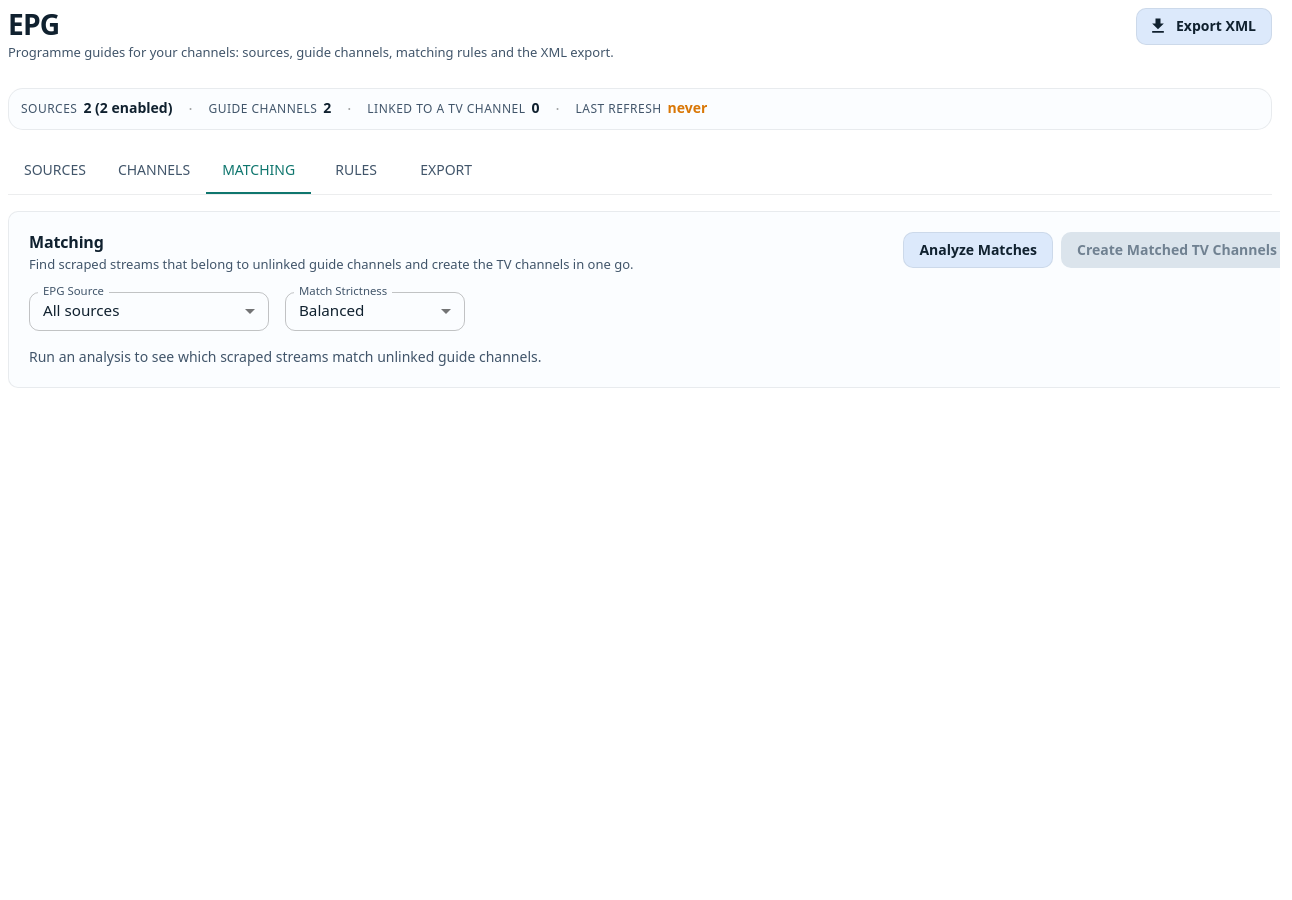
Test: EPG bulk match workflow › allows row deselection and creates only selected creatable rows
The width and height of the screenshot is (1292, 900).
Click the button "Analyze Matches": (978, 250) [903,232,1053,268]
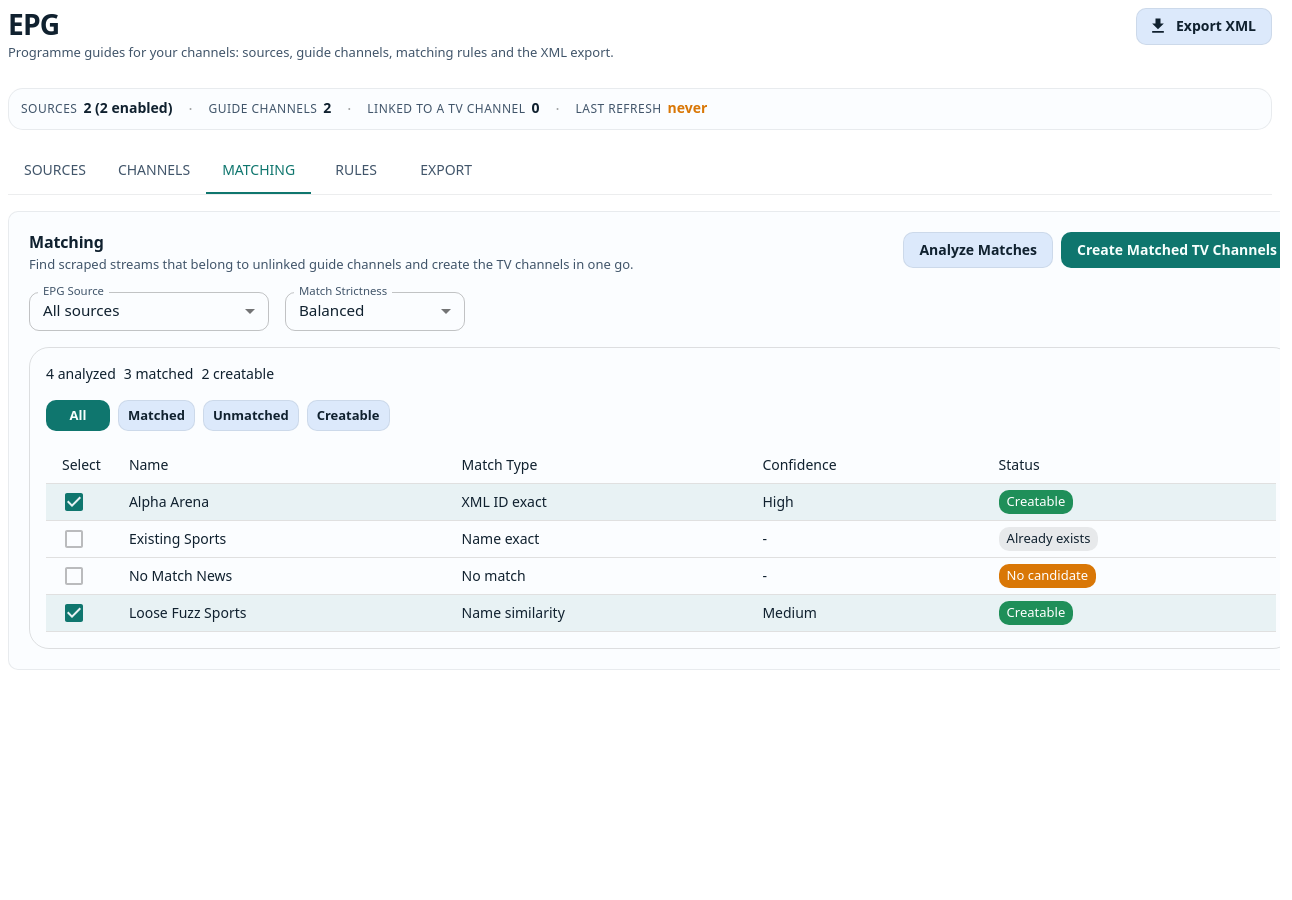
expect the text "Alpha Arena" is shown: met, box [113,483,446,520]
Click the checkbox named "select match row Alpha Arena": (74, 502) [62,490,86,514]
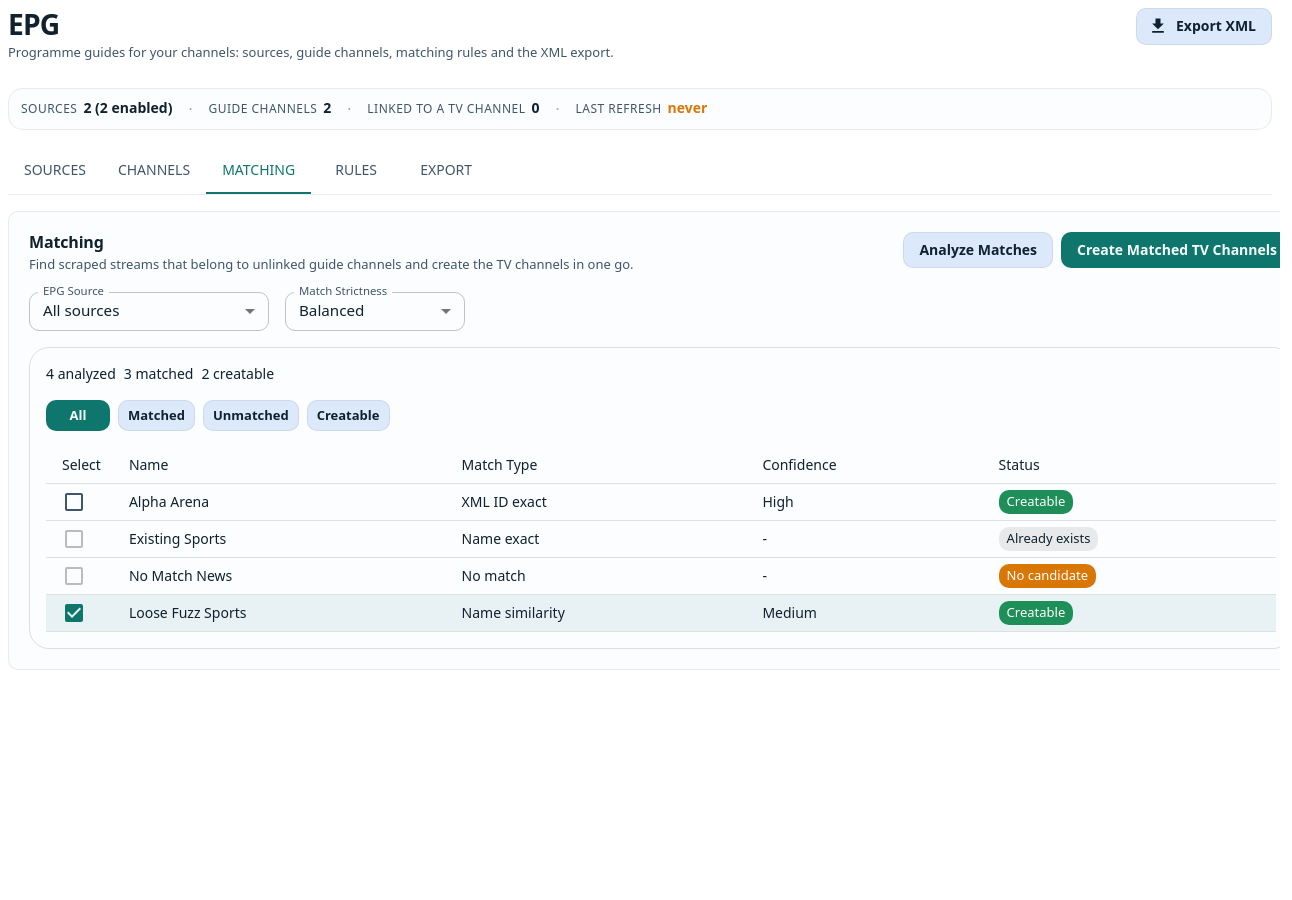
expect the checkbox named "select match row Alpha Arena" is not checked: met, box [62,490,86,514]
expect the checkbox named "select match row Loose Fuzz Sports" is checked: met, box [62,601,86,625]
Click the button "Create Matched TV Channels": (1171, 250) [1061,232,1280,268]
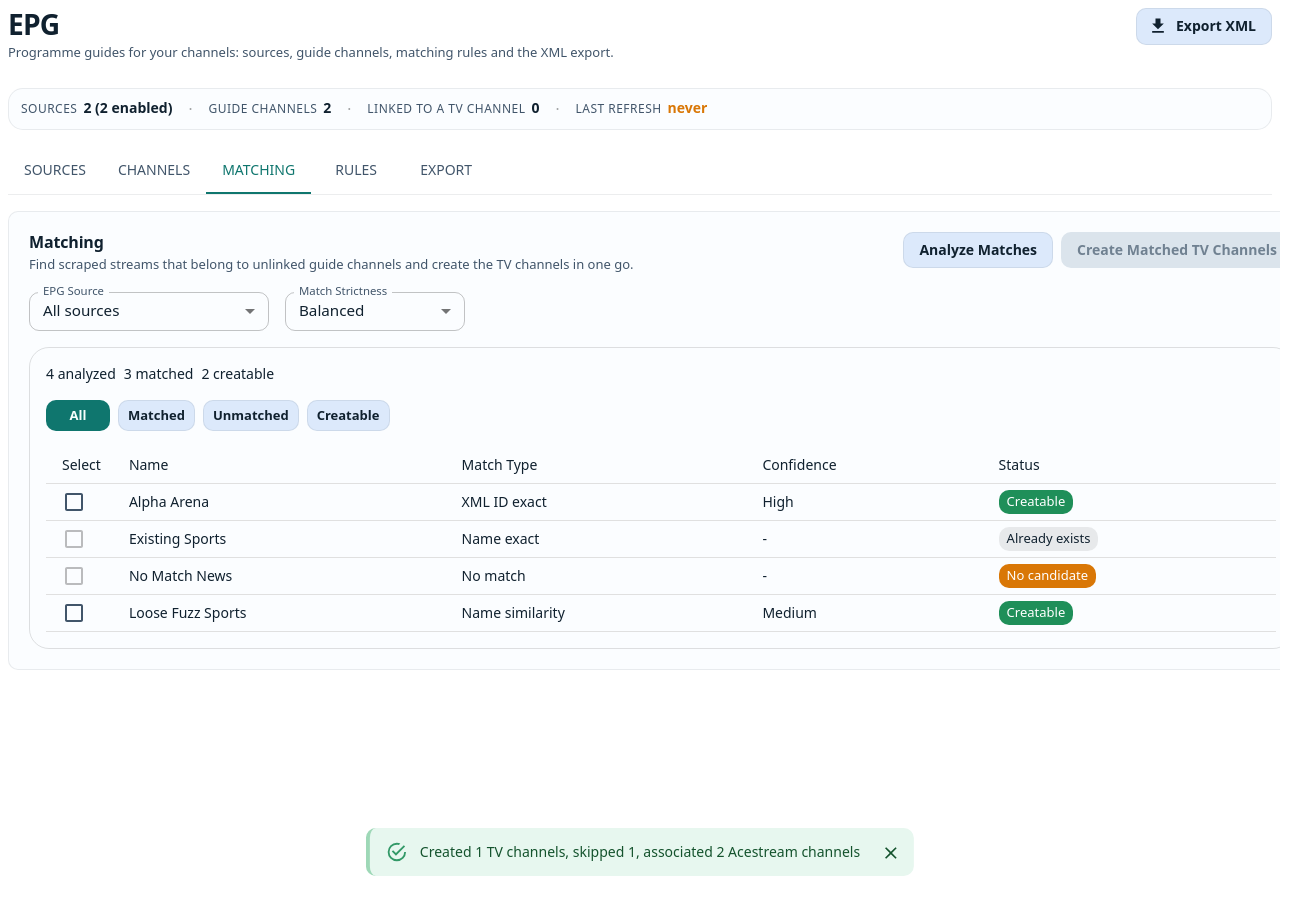
expect the text "Created 1 TV channels, skipped 1, associated 2 Acestream channels" is shown: met, box [420,842,860,861]
